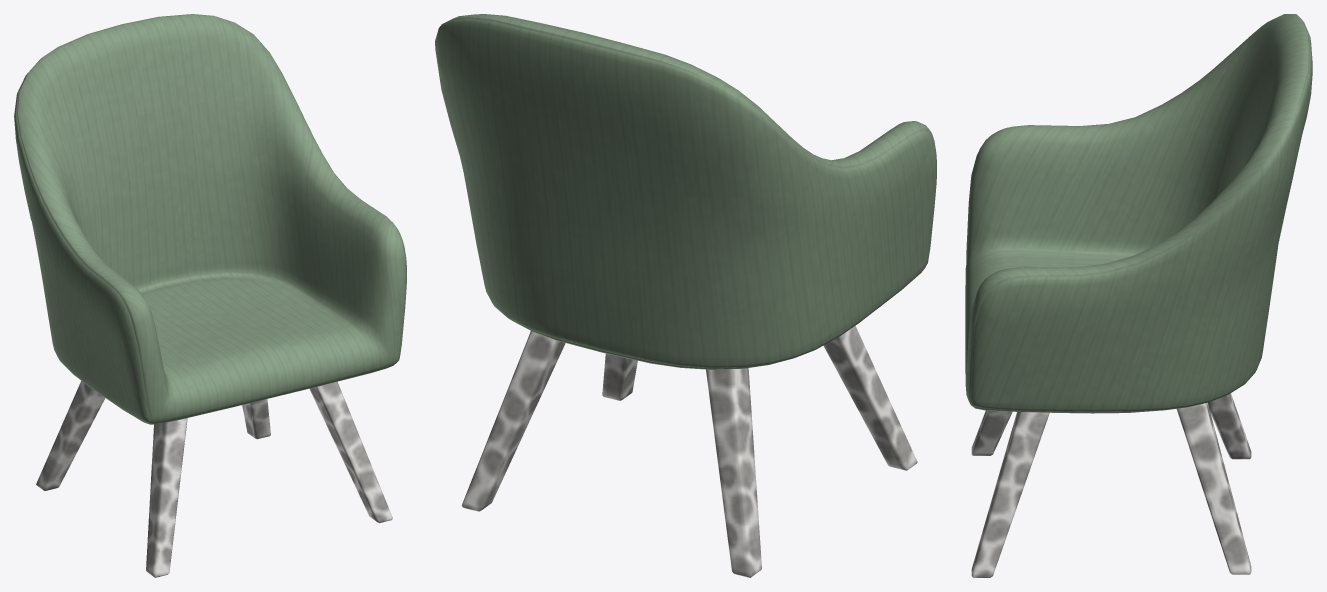
File: green-metal.glb
3 views of the same model, side by side, from view 1: azimuth 30°, elevation 25°; view 2: azimuth 150°, elevation 25°; view 3: azimuth 270°, elevation 25° (orthographic). The views are drawn at different scales.
Parts seen in each view (by area): view 1: seat_mesh_n3d, leg_004_mesh_n3d, leg_003_mesh_n3d, leg_002_mesh_n3d, leg_001_mesh_n3d; view 2: seat_mesh_n3d, leg_002_mesh_n3d, leg_001_mesh_n3d, leg_004_mesh_n3d, leg_003_mesh_n3d; view 3: seat_mesh_n3d, leg_001_mesh_n3d, leg_003_mesh_n3d, leg_002_mesh_n3d, leg_004_mesh_n3d.
Part boxes in pixels (x1,y1,x2,y2): seat_mesh_n3d: (14, 14, 406, 424); leg_004_mesh_n3d: (146, 418, 187, 577); leg_003_mesh_n3d: (309, 381, 392, 523); leg_002_mesh_n3d: (36, 381, 105, 491); leg_001_mesh_n3d: (242, 399, 270, 439); seat_mesh_n3d: (435, 14, 936, 369); leg_002_mesh_n3d: (706, 368, 761, 577); leg_001_mesh_n3d: (461, 331, 565, 511); leg_004_mesh_n3d: (823, 326, 917, 470); leg_003_mesh_n3d: (602, 353, 637, 400); seat_mesh_n3d: (965, 14, 1312, 413); leg_001_mesh_n3d: (1176, 402, 1251, 574); leg_003_mesh_n3d: (971, 412, 1049, 577); leg_002_mesh_n3d: (1208, 393, 1251, 459); leg_004_mesh_n3d: (971, 410, 1012, 455).
Size of the model in its own units: 0.8208 by 1.14 by 0.7759.
Materials: 5 (5 with a texture image).
